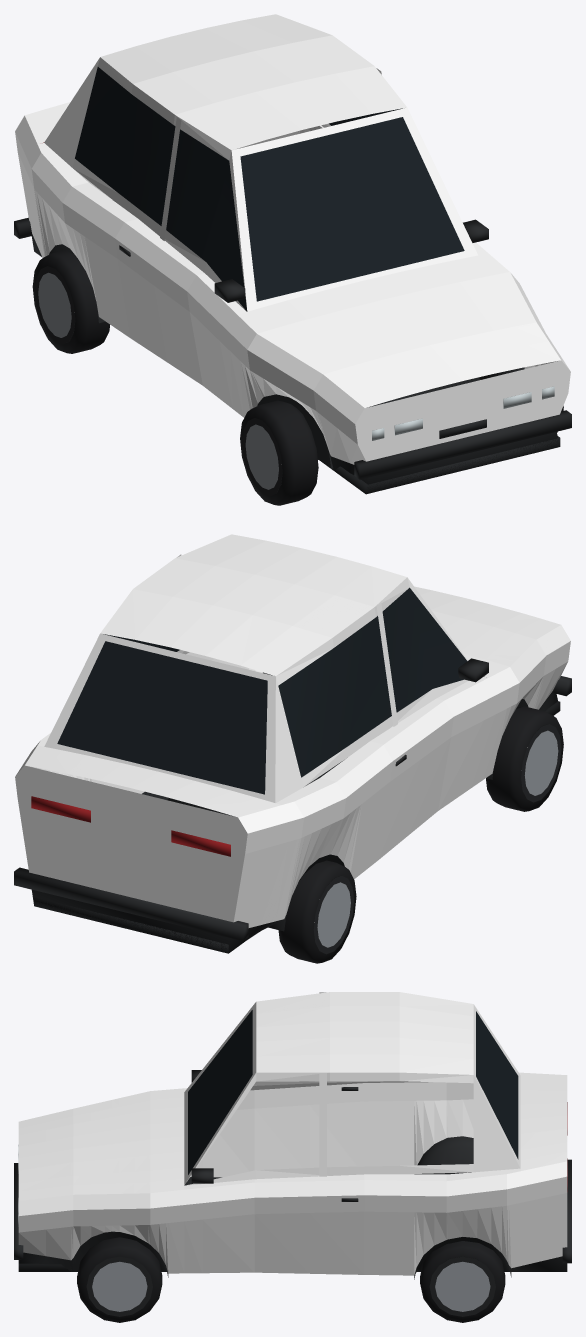
The model's file is kosame_muda.glb.
3 views of the same model, one above another, from view 1: azimuth 30°, elevation 25°; view 2: azimuth 150°, elevation 25°; view 3: azimuth 270°, elevation 25° (orthographic). The views are drawn at different scales.
Parts seen in each view (by area): view 1: Body_Paint, Body_Details, Mount_FrontLeft_Wheel_Details, Mount_RearLeft_Wheel_Details; view 2: Body_Paint, Body_Details, Mount_FrontLeft_Wheel_Details, Mount_RearLeft_Wheel_Details; view 3: Body_Paint, Body_Details, Mount_FrontRight_Wheel_Details, Mount_RearRight_Wheel_Details.
Boxes of the visible parts, left/top/right/bottom form: Body_Paint: left=15, top=14, right=570, bottom=464; Body_Details: left=14, top=67, right=571, bottom=494; Mount_FrontLeft_Wheel_Details: left=240, top=400, right=318, bottom=505; Mount_RearLeft_Wheel_Details: left=32, top=250, right=109, bottom=353; Body_Paint: left=15, top=534, right=570, bottom=927; Body_Details: left=14, top=587, right=571, bottom=953; Mount_FrontLeft_Wheel_Details: left=486, top=706, right=563, bottom=811; Mount_RearLeft_Wheel_Details: left=278, top=860, right=356, bottom=963; Body_Paint: left=18, top=992, right=567, bottom=1275; Body_Details: left=14, top=1010, right=571, bottom=1279; Mount_FrontRight_Wheel_Details: left=77, top=1237, right=162, bottom=1322; Mount_RearRight_Wheel_Details: left=420, top=1241, right=505, bottom=1322.
Size of the model in its own units: 1.62 by 1.58 by 3.34.
Materials: 2 (1 with a texture image).
